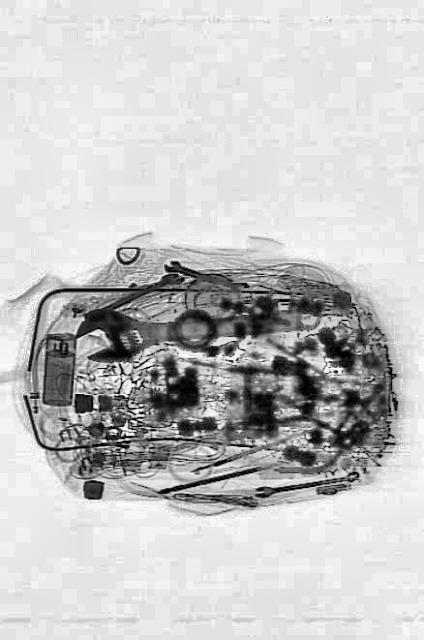Wrench: (72, 283, 322, 367), (160, 255, 248, 298), (110, 264, 184, 314), (252, 468, 360, 498)
